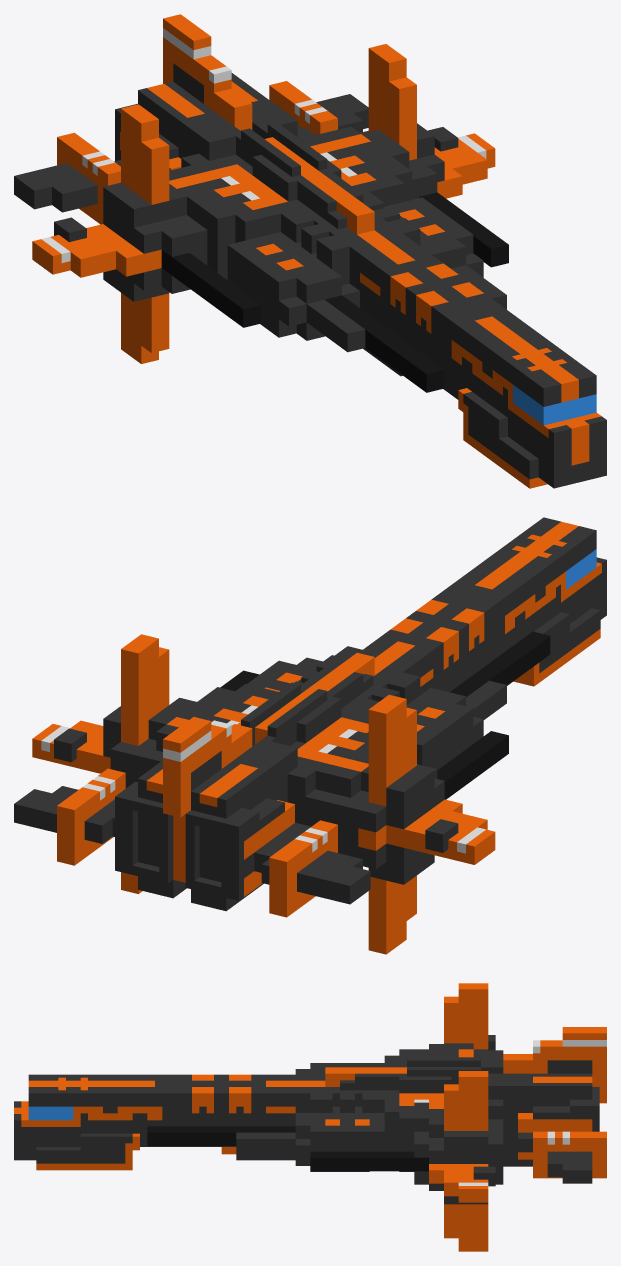
The model's file is star_1.FBX.
The picture shows the model from 3 angles, top to bottom: view 1: azimuth 30°, elevation 25°; view 2: azimuth 150°, elevation 25°; view 3: azimuth 270°, elevation 25°; orthographic projection. The views are drawn at different scales.
Visible parts, largest first — view 1: star_1; view 2: star_1; view 3: star_1.
Part boxes in pixels (x1,y1,x2,y2): star_1: (14, 14, 606, 488); star_1: (14, 517, 606, 954); star_1: (14, 983, 606, 1251).
Bounding box in the file's own units: 94.5 × 49.14 × 151.
